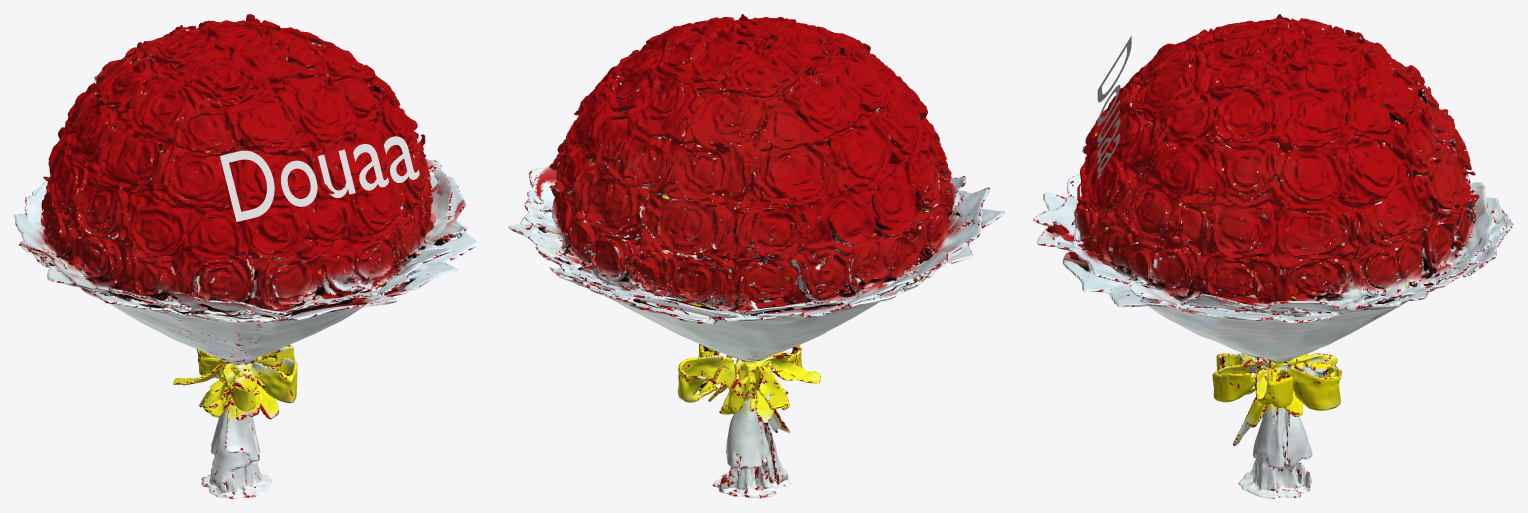
3 renders of one model, left to right at view 1: azimuth 30°, elevation 25°; view 2: azimuth 150°, elevation 25°; view 3: azimuth 270°, elevation 25°, orthographic.
Parts seen in each view (by area): view 1: tmpkh3n7wnt.ply, Text; view 2: tmpkh3n7wnt.ply; view 3: tmpkh3n7wnt.ply, Text.
Boxes of the visible parts, <box> form: tmpkh3n7wnt.ply: <box>14,14,479,498</box>; Text: <box>220,136,419,221</box>; tmpkh3n7wnt.ply: <box>508,14,1004,498</box>; tmpkh3n7wnt.ply: <box>1033,14,1513,498</box>; Text: <box>1097,36,1131,178</box>.
Bounding box in the file's own units: 1.96 × 1.99 × 1.94.
Materials: 1 (1 with a texture image).
